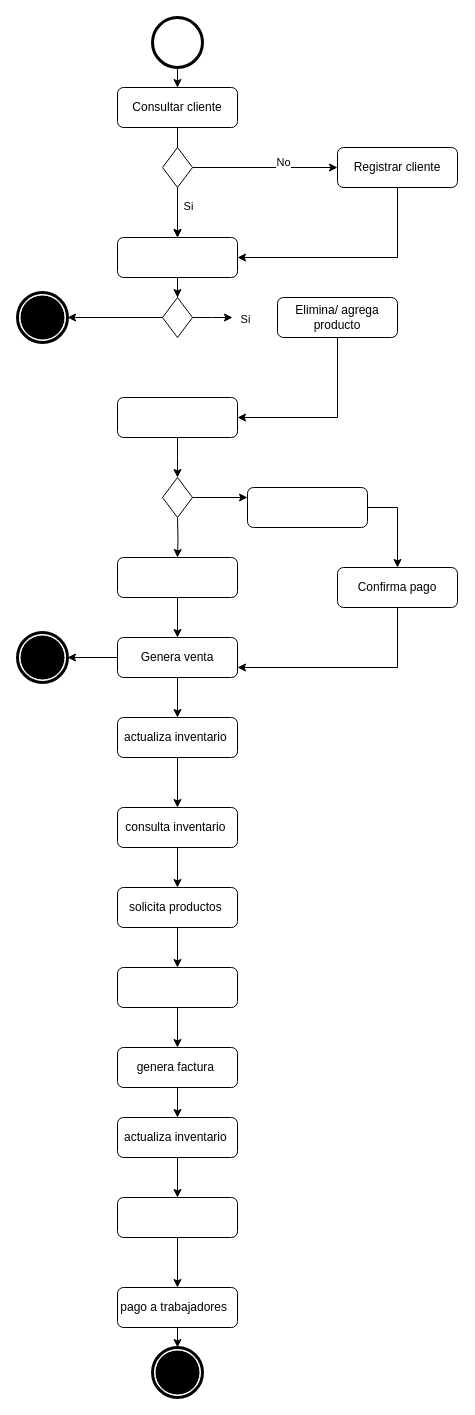
This 475x1415 diagram has some shape labels left out. Each missing label, with the box of its shape:
Confirmación de venta: (116, 396, 238, 438)
Efectivo: (116, 556, 238, 598)
entrega productos: (116, 966, 238, 1008)
pago a proveedores: (116, 1196, 238, 1238)
Pago tecnológico: (246, 486, 368, 528)
Registra productos: (116, 236, 238, 278)
